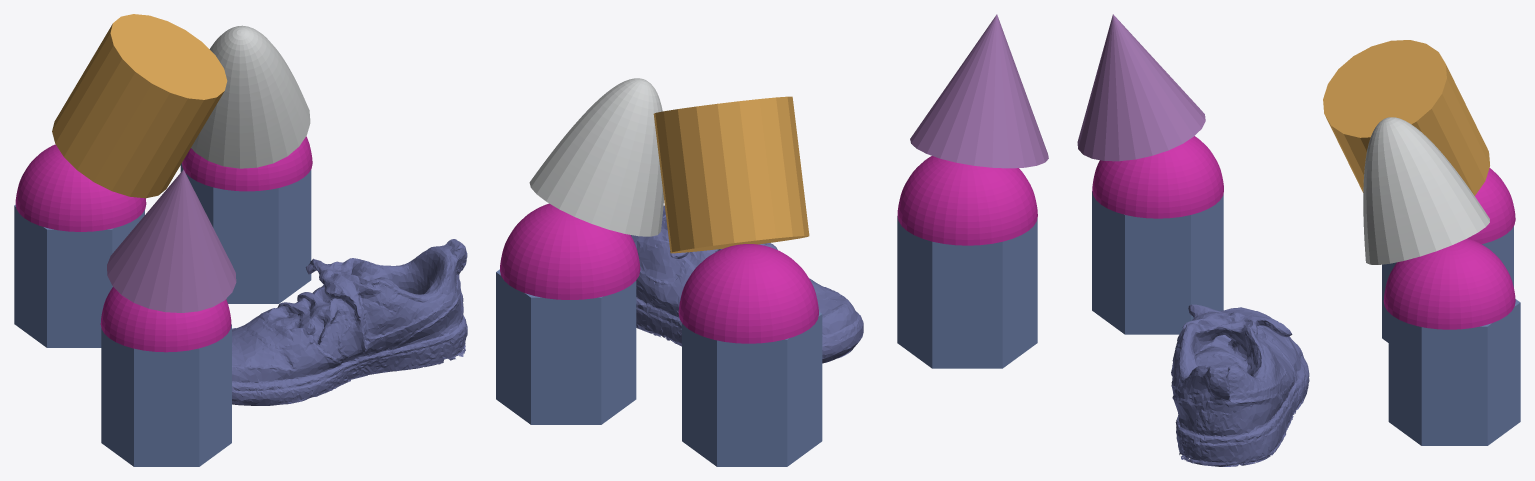
Rendered from tinker_shoe.glb.
3 renders of one model, left to right at view 1: azimuth 30°, elevation 25°; view 2: azimuth 150°, elevation 25°; view 3: azimuth 270°, elevation 25°, orthographic. The views are drawn at different scales.
Parts seen in each view (by area): view 1: Mesh_Mesh_head_geo.001_lambert2SG.001; view 2: Mesh_Mesh_head_geo.001_lambert2SG.001; view 3: Mesh_Mesh_head_geo.001_lambert2SG.001.
Part boxes in pixels (x1,y1,x2,y2): Mesh_Mesh_head_geo.001_lambert2SG.001: (14,14,467,466); Mesh_Mesh_head_geo.001_lambert2SG.001: (496,14,1048,466); Mesh_Mesh_head_geo.001_lambert2SG.001: (1077,14,1520,466).
Size of the model in its own units: 68.52 by 51.18 by 67.2.
